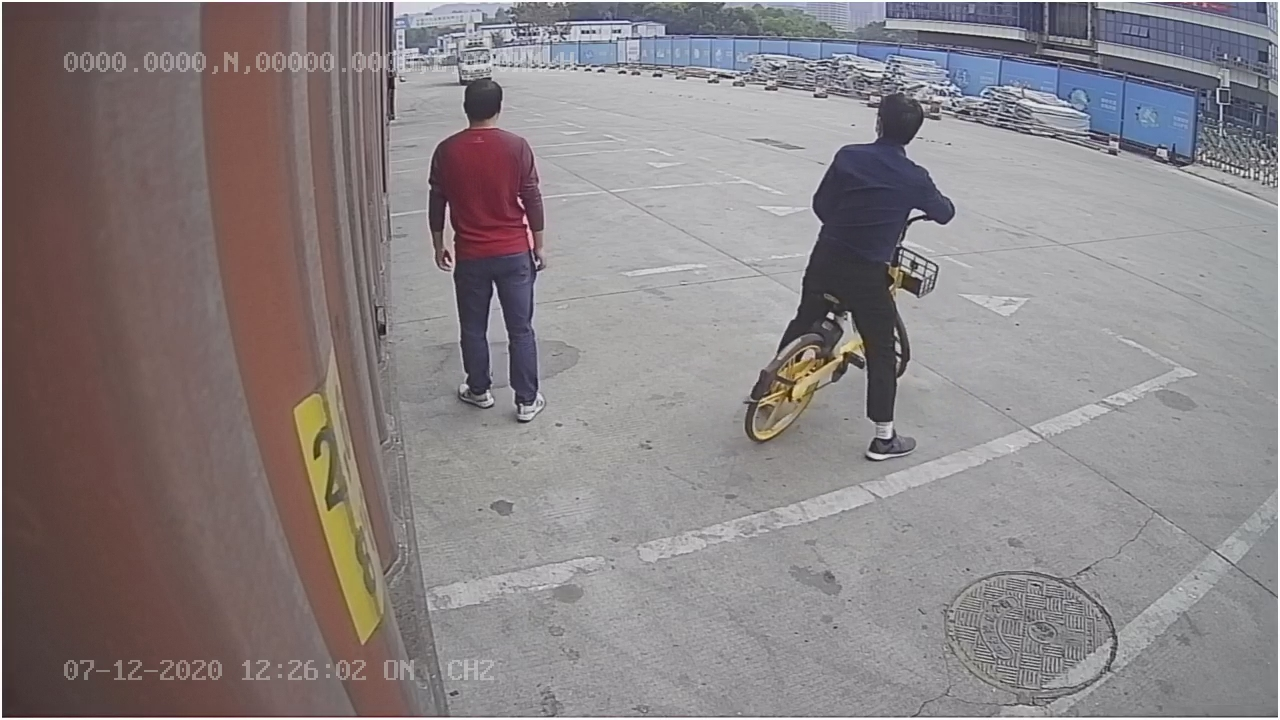person: (418, 76, 551, 430)
